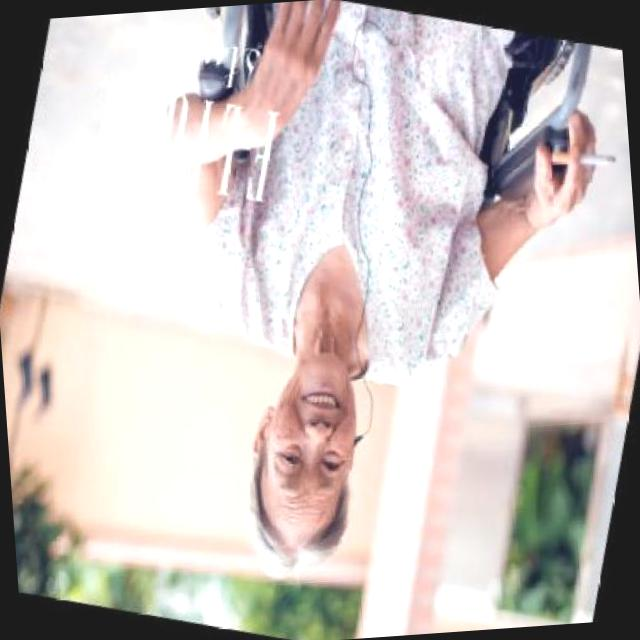smoke: (548, 136, 618, 178)
